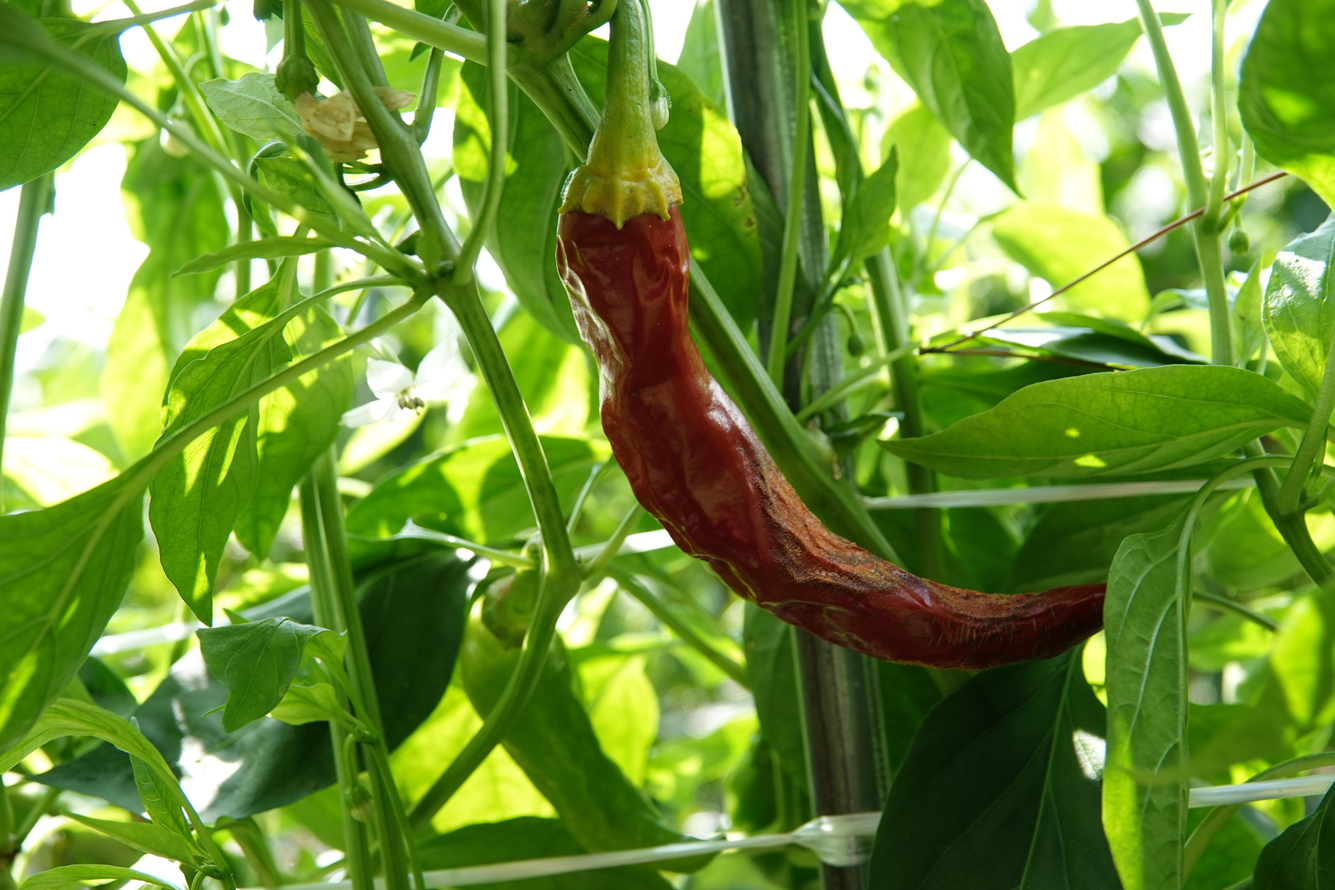Busuk Buah Antraknosa: (549, 151, 1109, 673)
